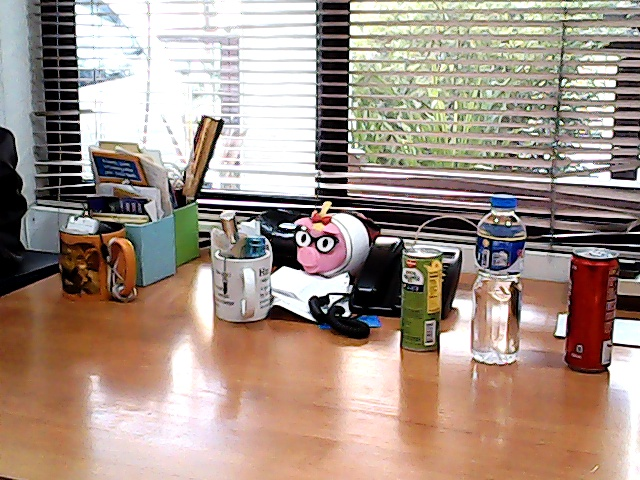Cola: (549, 234, 627, 386)
Pine Juice: (386, 234, 455, 366)
Summit Water: (461, 188, 537, 375)
